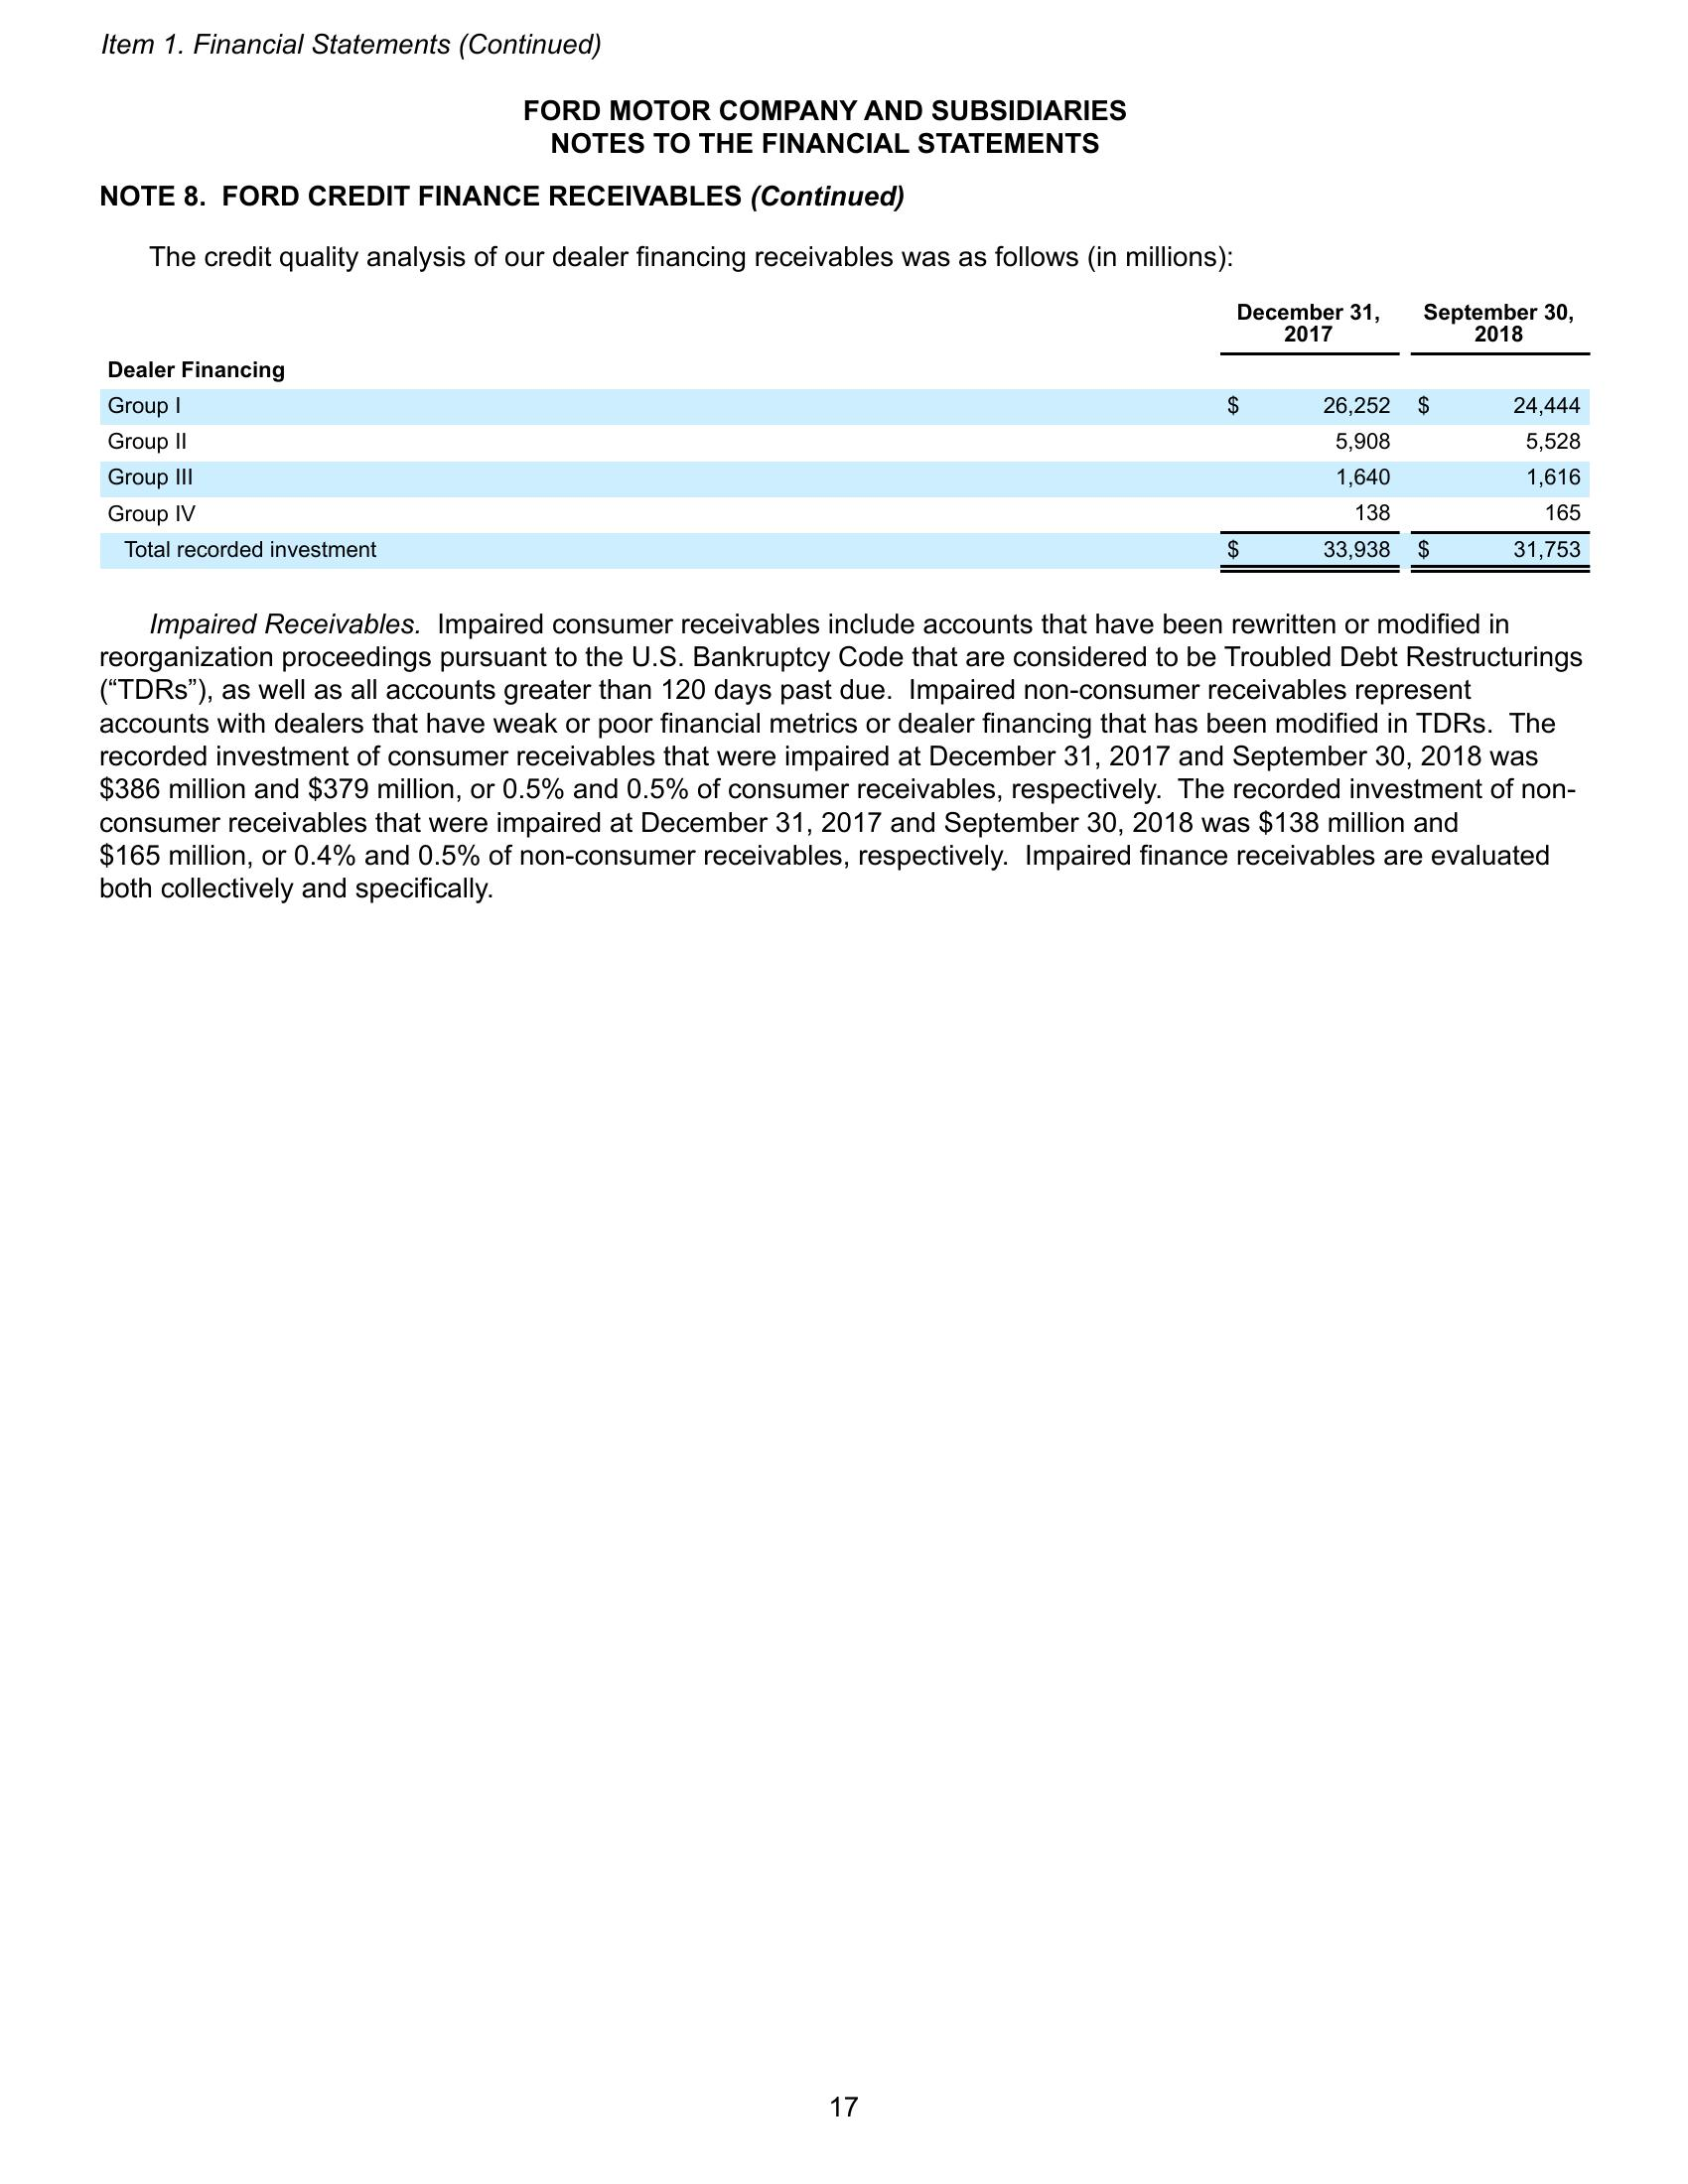table: (103, 294, 1596, 578)
